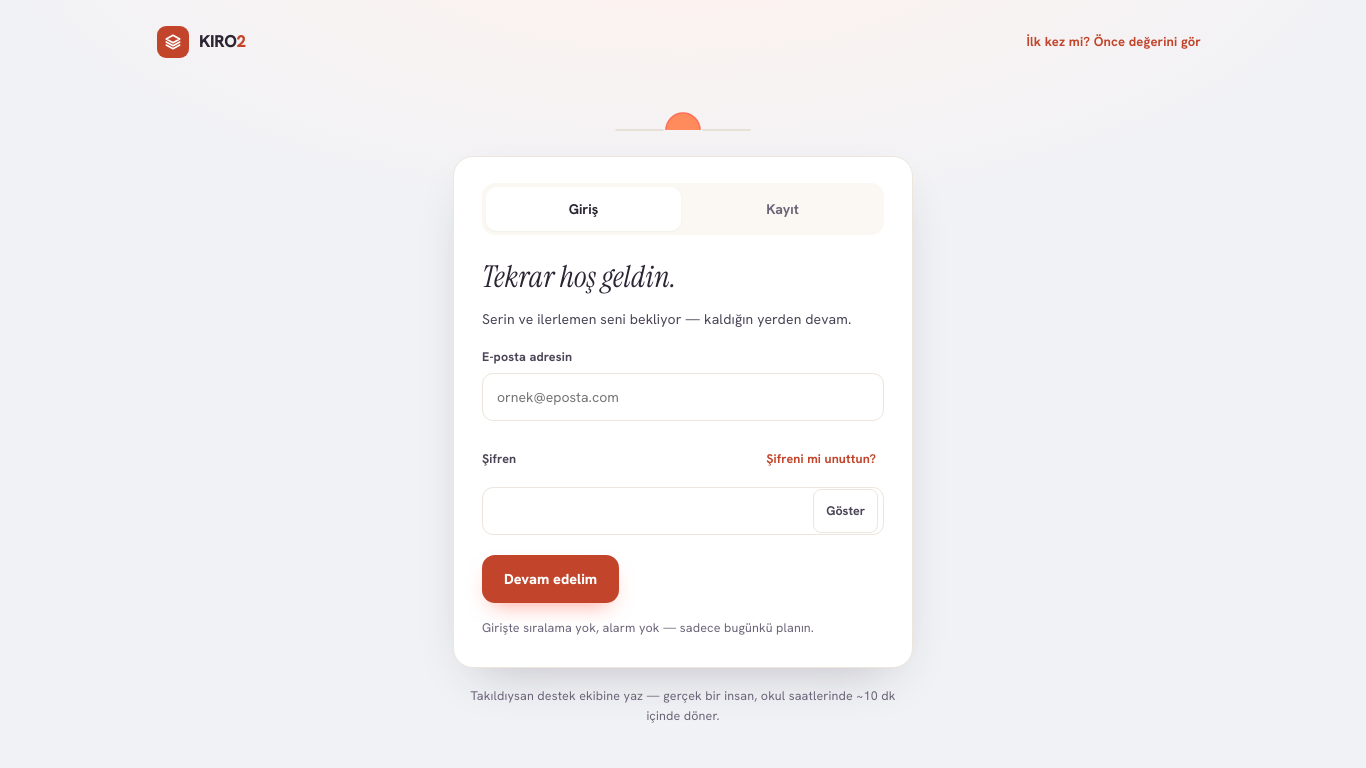
Test: GirisPage › geçerli giriş → tamam durumu (İçerdesin.)
The image size is (1366, 768).
Type "ali@eposta.com" into the field labelled "E-posta adresin" at (683, 397), box top-left (482, 373), bottom-right (884, 421)
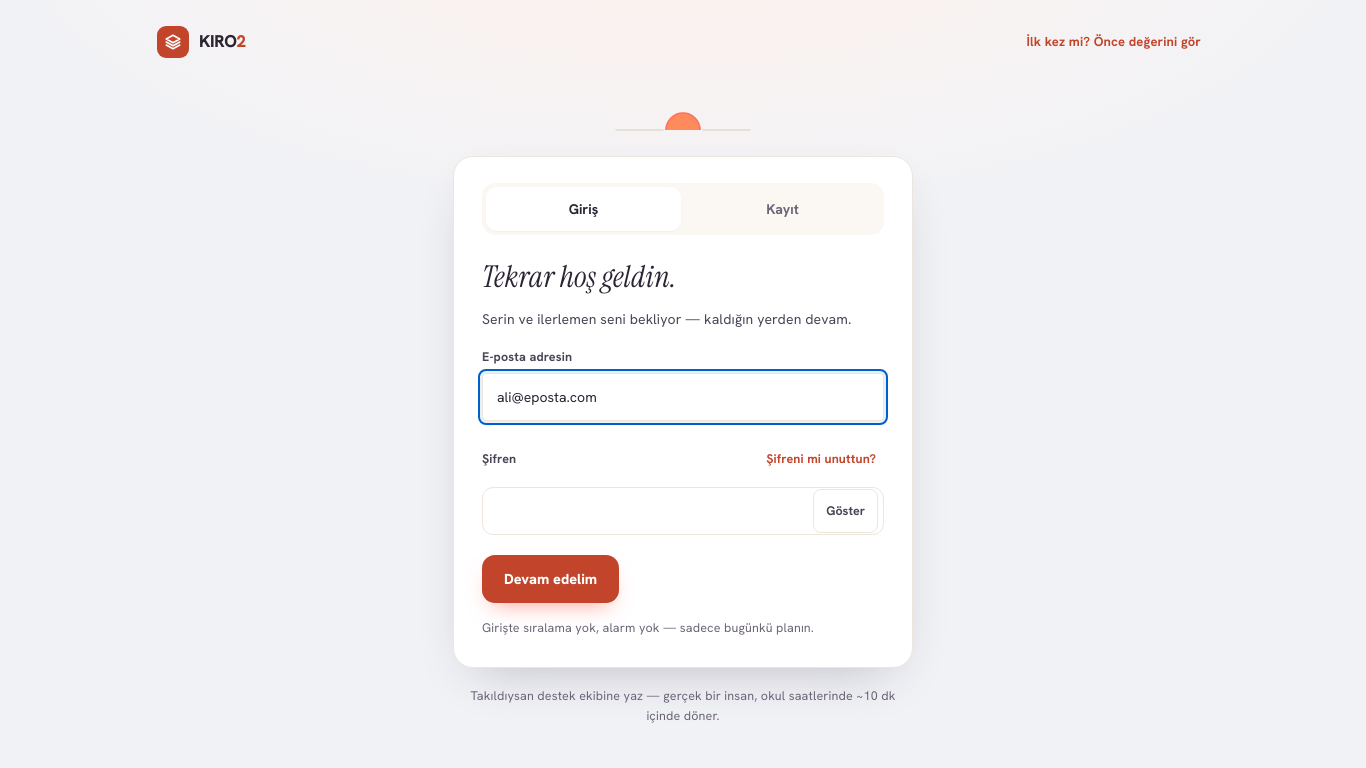
Type "sifre123" into the password field labelled "Şifren" at (683, 511), box top-left (482, 487), bottom-right (884, 535)
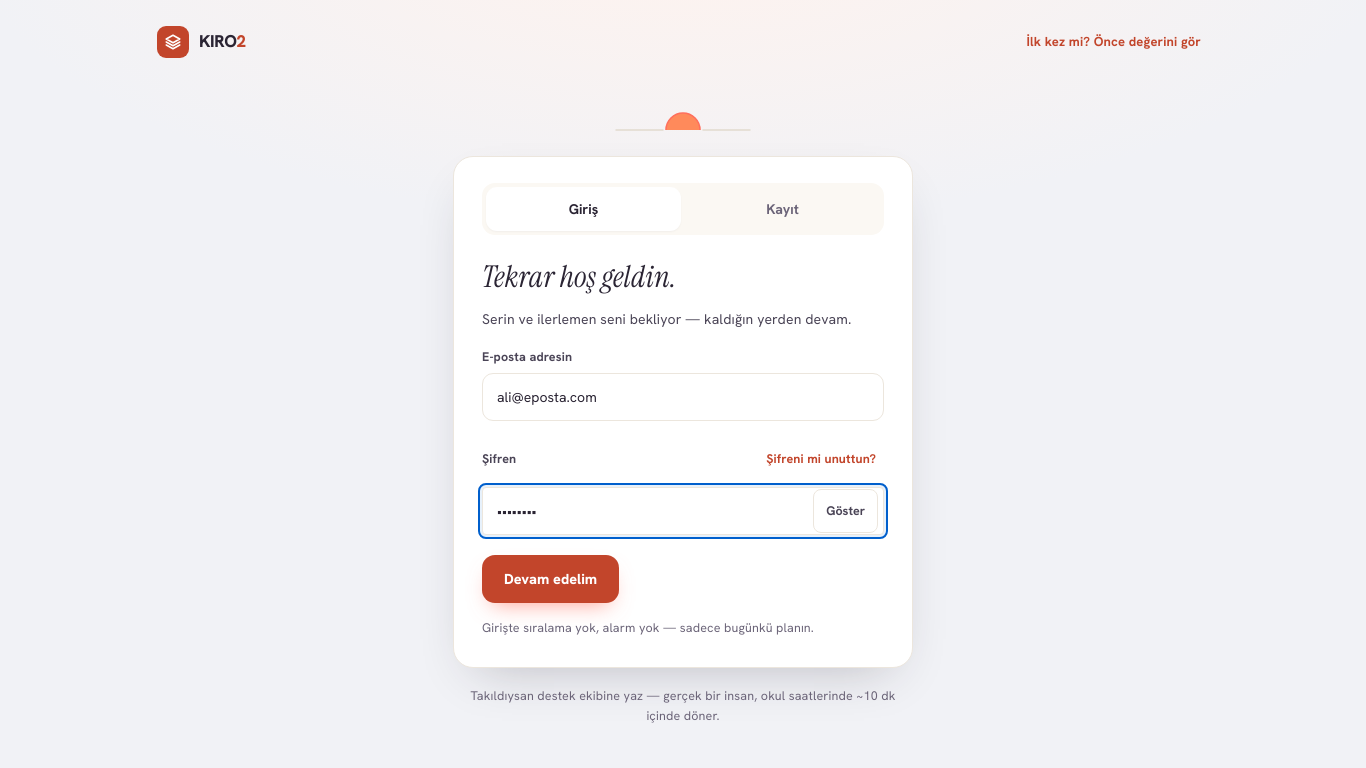
Click the button "Devam edelim" at (551, 579), box top-left (482, 555), bottom-right (619, 603)
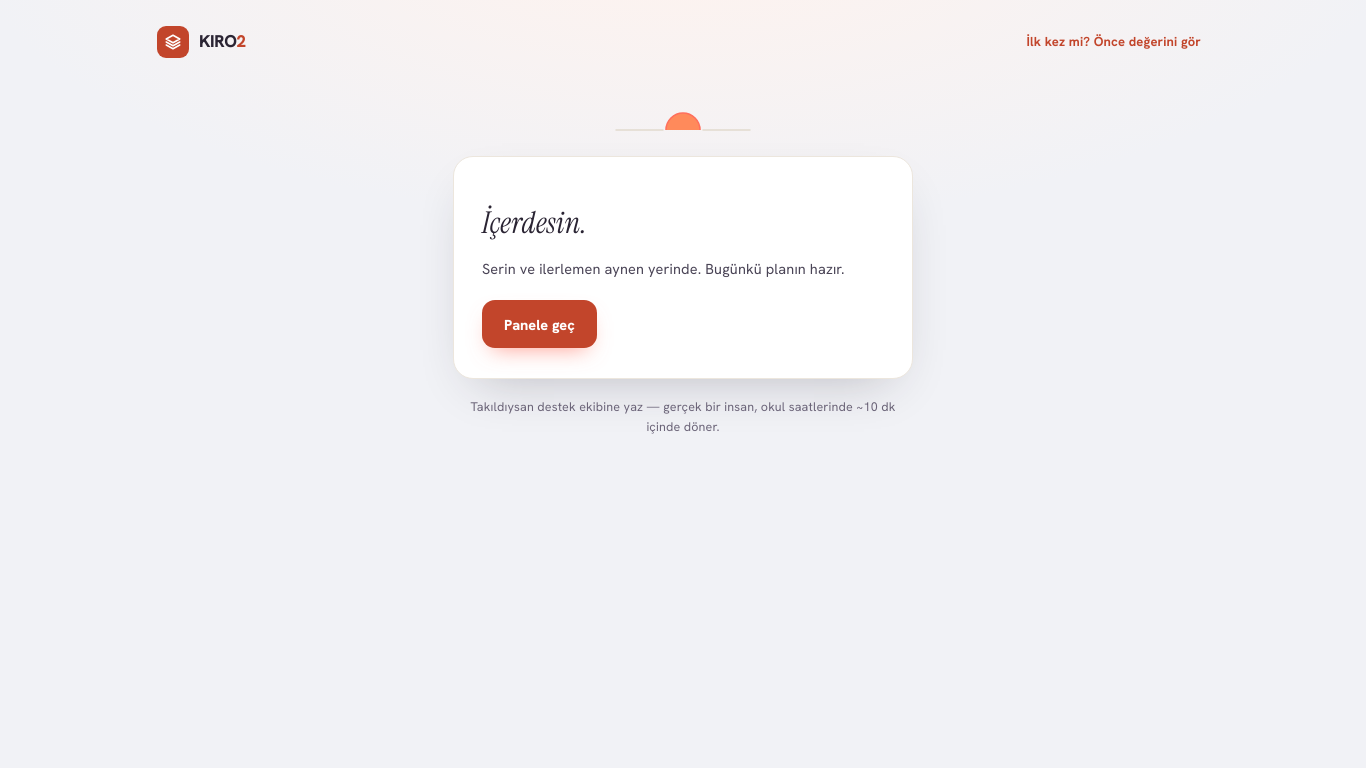
Check: the heading "İçerdesin." is shown, box top-left (482, 203), bottom-right (587, 242)
